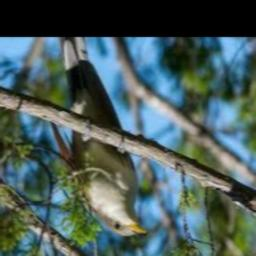Cuckoo: (49, 37, 149, 237)
